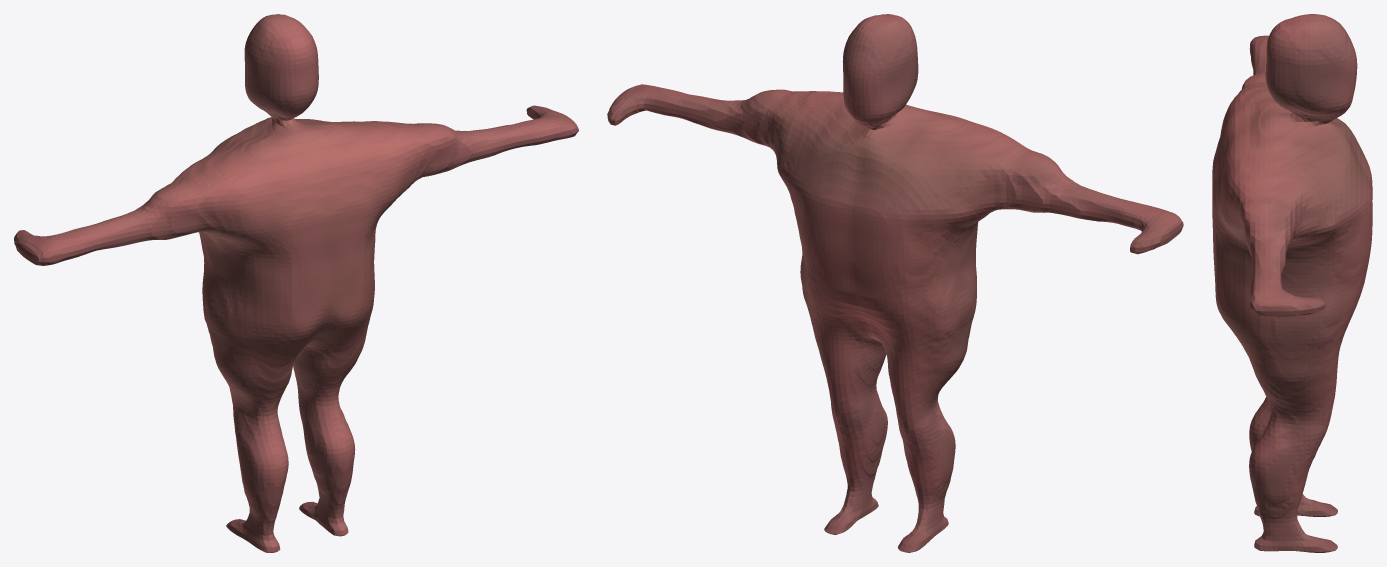
Rendered from wrestler.fbx.
3 renders of one model, left to right at view 1: azimuth 30°, elevation 25°; view 2: azimuth 150°, elevation 25°; view 3: azimuth 270°, elevation 25°, orthographic.
Parts seen in each view (by area): view 1: tmp6h5pn1_a.ply; view 2: tmp6h5pn1_a.ply; view 3: tmp6h5pn1_a.ply.
Part boxes in pixels (x1=…): tmp6h5pn1_a.ply: x1=14, y1=14, x2=578, y2=552; tmp6h5pn1_a.ply: x1=607, y1=14, x2=1183, y2=552; tmp6h5pn1_a.ply: x1=1212, y1=14, x2=1372, y2=552.
Size of the model in its own units: 198 by 176 by 49.91.
